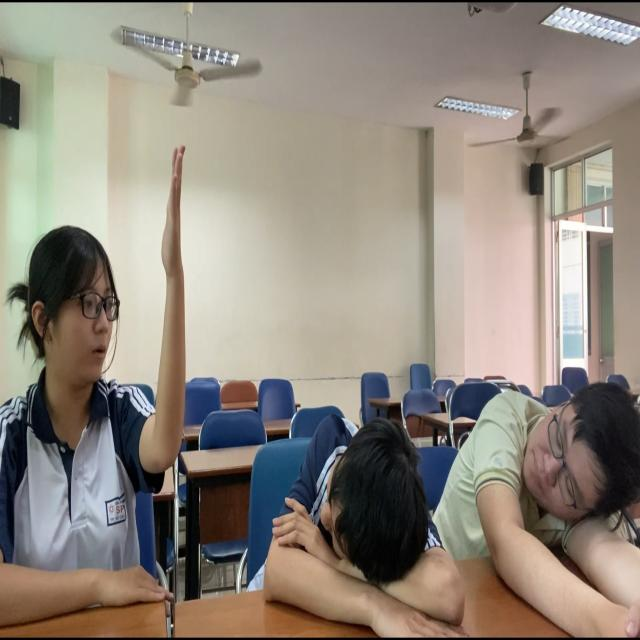raise_hand: (1, 85, 211, 640)
sleep: (249, 386, 475, 640)
